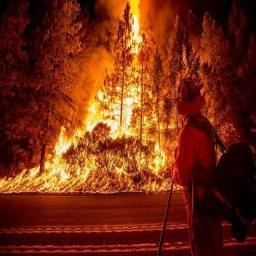Large fire: (0, 0, 255, 198)
